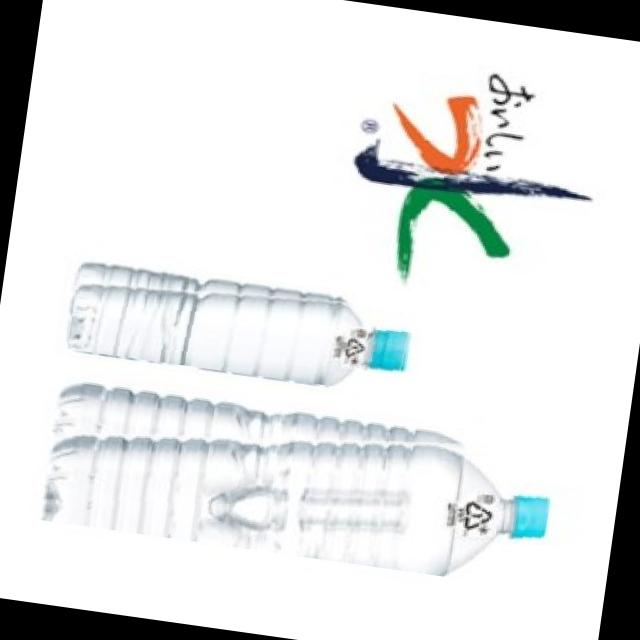plastic bottle: (38, 376, 556, 590), (66, 260, 413, 396)
